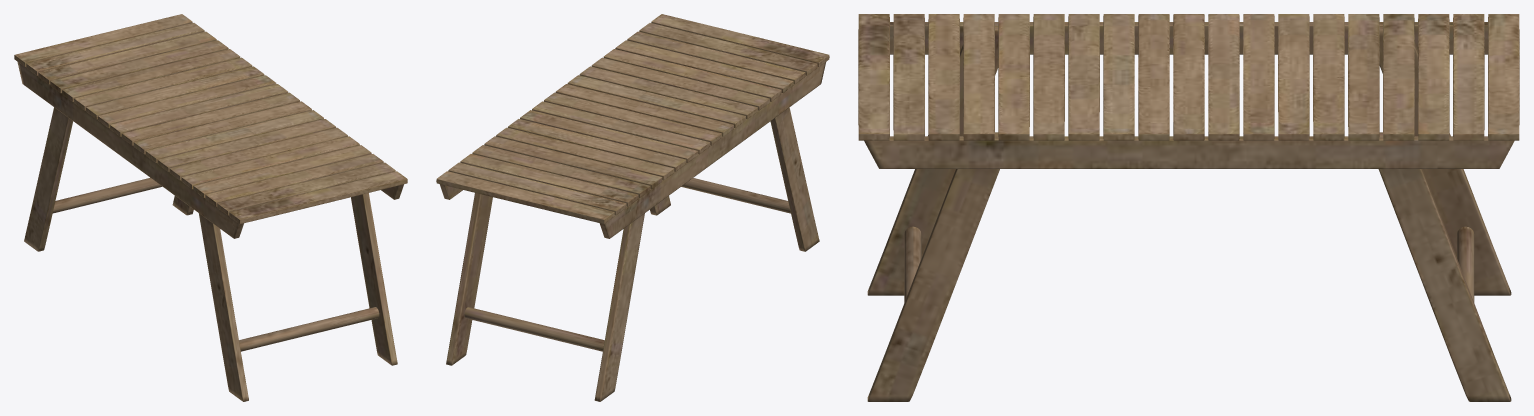
The model's file is Table46.glb.
3 renders of one model, left to right at view 1: azimuth 30°, elevation 25°; view 2: azimuth 150°, elevation 25°; view 3: azimuth 270°, elevation 25°, orthographic. The views are drawn at different scales.
Parts seen in each view (by area): view 1: Table46_model; view 2: Table46_model; view 3: Table46_model.
Boxes of the visible parts, x1=… form: Table46_model: x1=14, y1=14, x2=407, y2=401; Table46_model: x1=436, y1=14, x2=829, y2=401; Table46_model: x1=858, y1=14, x2=1519, y2=401.
Bounding box in the file's own units: 1.07 × 1.13 × 2.48.
Materials: 1 (1 with a texture image).
